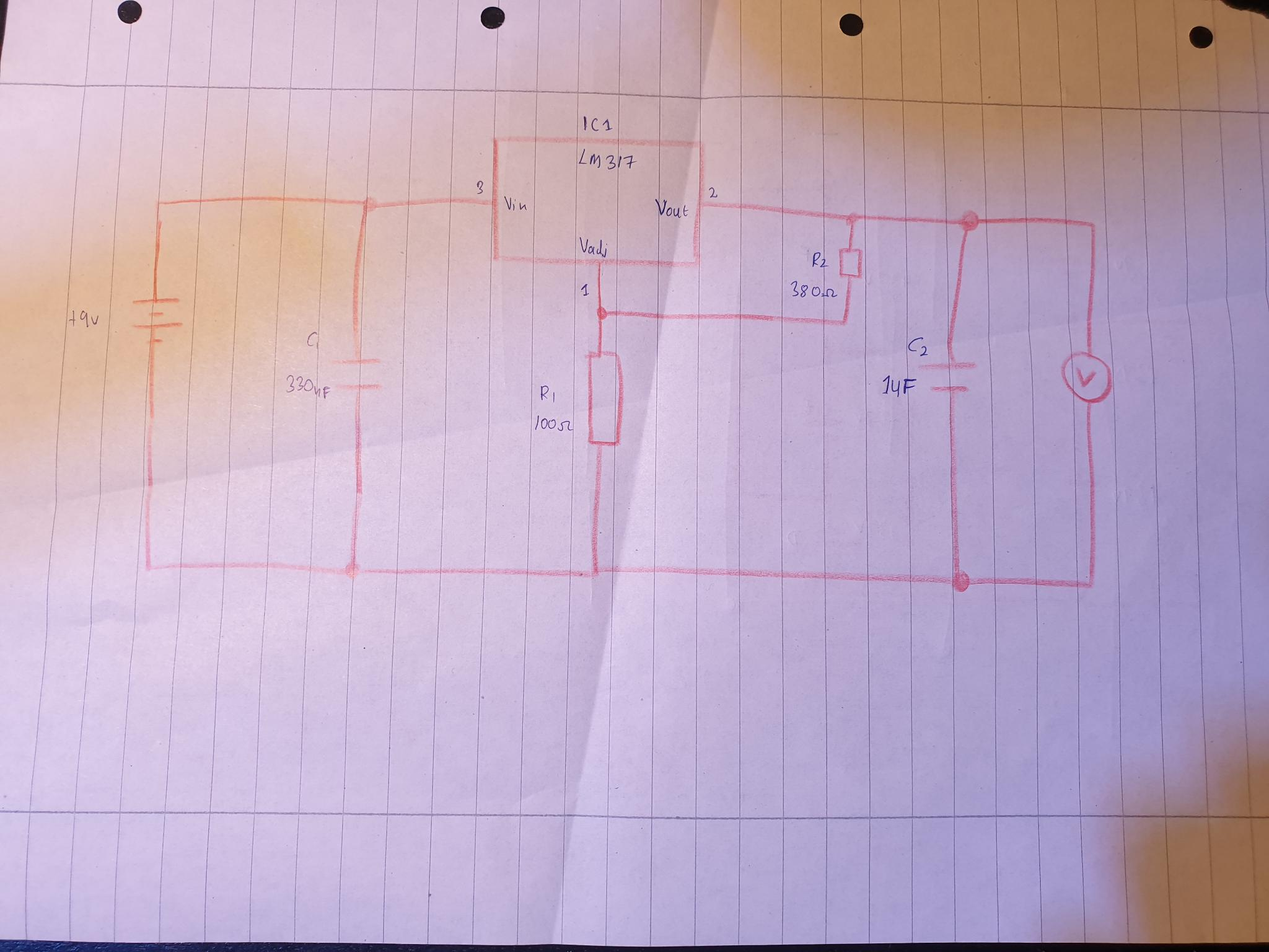capacitor.unpolarized: (332, 347, 385, 399), (923, 350, 979, 399)
integrated_circuit.voltage_regulator: (486, 134, 708, 270)
junction: (947, 566, 975, 596), (957, 209, 980, 232), (342, 559, 362, 579), (1082, 573, 1099, 593), (1083, 217, 1100, 234), (360, 195, 376, 213), (588, 562, 604, 580), (141, 558, 157, 574), (595, 306, 610, 322), (152, 197, 165, 212), (845, 212, 858, 226), (839, 317, 849, 327)
probe.voltage: (1060, 348, 1115, 405)
resistor: (582, 349, 624, 449), (836, 246, 863, 281)
text: (575, 148, 638, 173), (282, 371, 332, 402), (787, 279, 839, 301), (878, 372, 916, 399), (531, 413, 574, 434), (66, 307, 102, 329), (653, 198, 689, 220), (576, 235, 610, 257), (580, 114, 613, 133), (905, 334, 929, 356), (502, 194, 528, 214), (537, 383, 558, 403), (304, 328, 321, 352), (810, 250, 829, 270), (577, 281, 591, 298), (473, 177, 486, 195), (706, 185, 720, 200)
voltage.battery: (129, 293, 186, 346)
